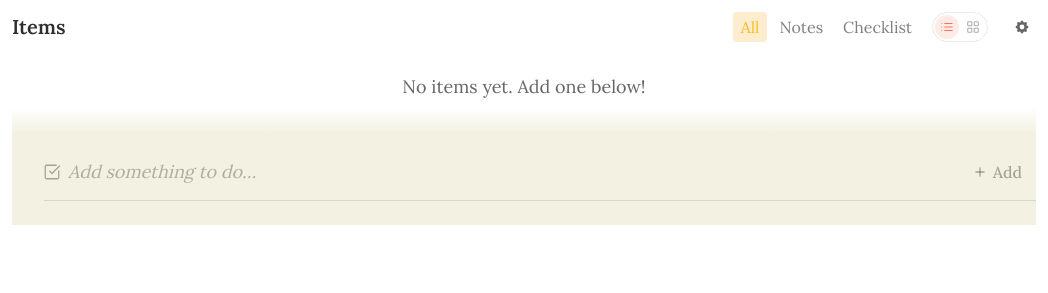
Test: Todo first-milestone invitation › should invite again when the view switches back to an empty grid
This screenshot has width=1048, height=293.
expect the button "Notes" is shown: met, box [771,12,831,42]
Click the button named "Milestones" at [973, 27], box [961,15,985,39]
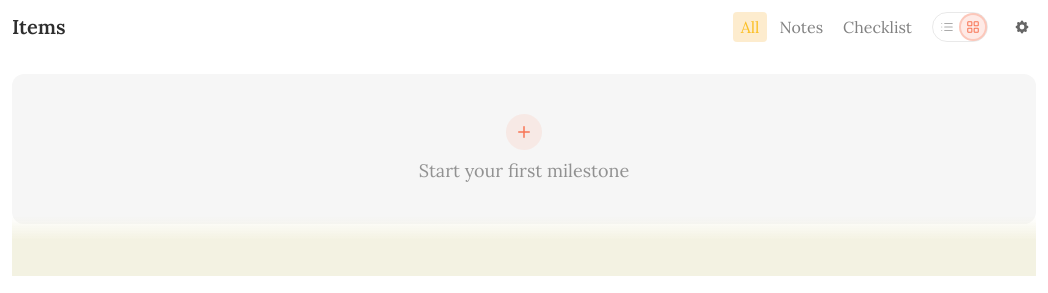
expect the button "Start your first milestone" is shown: met, box [12,74,1036,224]
expect the button "Add" is gone: met
